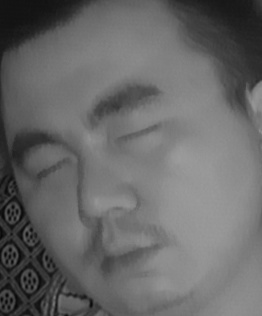blink: (113, 116, 166, 155), (28, 149, 75, 186)
mouth: (91, 228, 173, 285)
